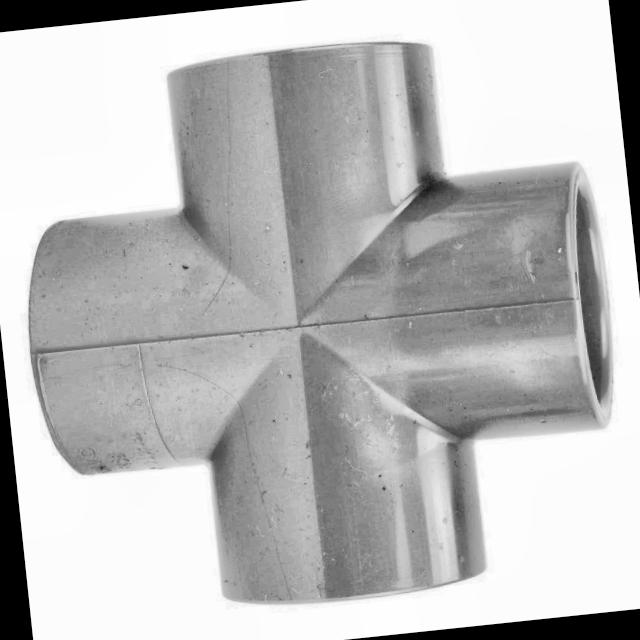EQUALCROSS: (25, 41, 613, 606)
